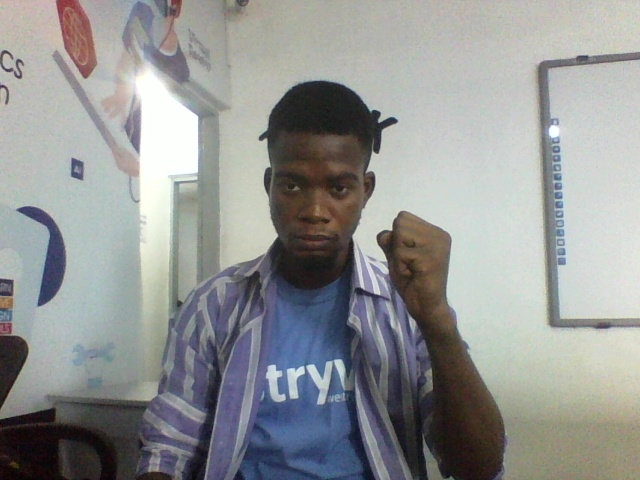yes: (370, 206, 467, 369)
